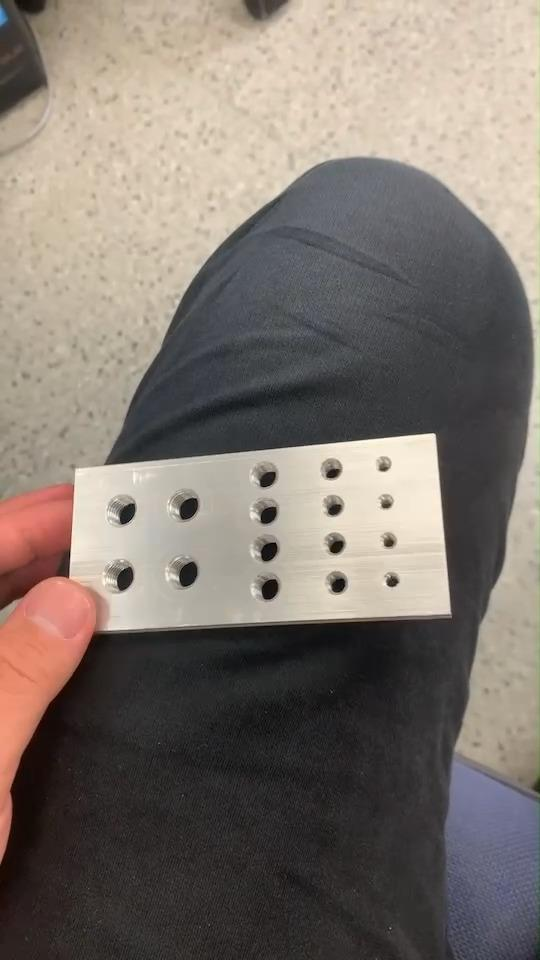hole: (94, 493, 142, 538), (161, 553, 205, 597), (162, 485, 204, 526), (98, 557, 138, 599), (246, 456, 282, 492), (246, 496, 285, 528), (249, 571, 286, 604), (248, 533, 284, 565), (316, 457, 346, 484), (319, 532, 350, 558), (318, 493, 347, 520), (322, 570, 350, 597), (372, 454, 395, 476), (375, 492, 397, 514), (379, 531, 399, 553), (383, 570, 402, 592)
